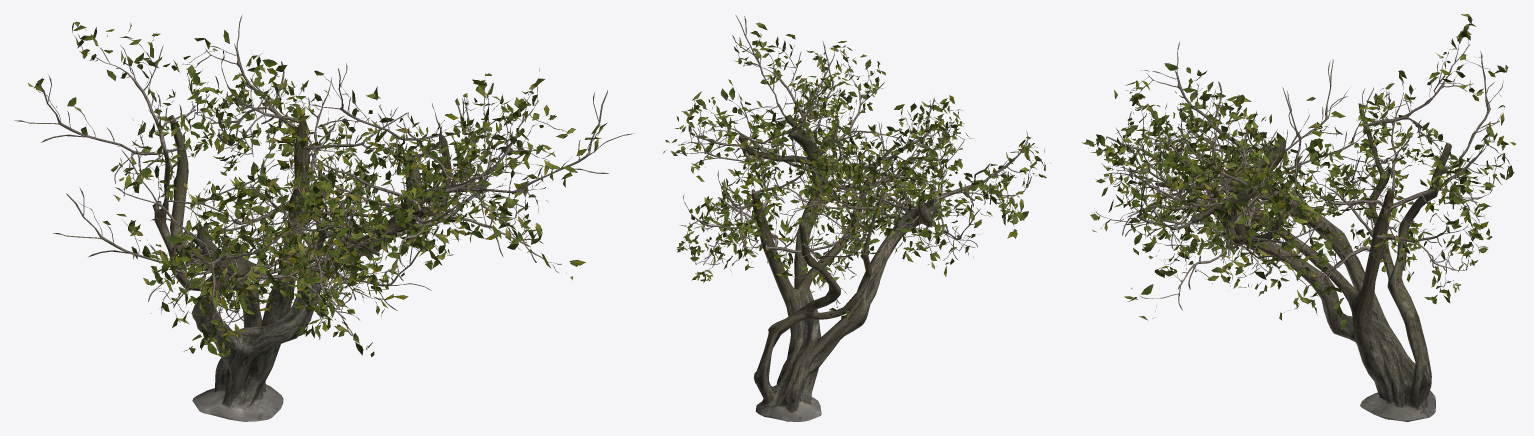
Rendered from tree_b.glb.
3 renders of one model, left to right at view 1: azimuth 30°, elevation 25°; view 2: azimuth 150°, elevation 25°; view 3: azimuth 270°, elevation 25°, orthographic. The views are drawn at different scales.
Visible parts, largest first — view 1: island_tree_02_LOD0; view 2: island_tree_02_LOD0; view 3: island_tree_02_LOD0.
Part boxes in pixels (x1=…): island_tree_02_LOD0: x1=14, y1=14, x2=634, y2=421; island_tree_02_LOD0: x1=663, y1=15, x2=1051, y2=421; island_tree_02_LOD0: x1=1082, y1=14, x2=1517, y2=421.
Bounding box in the file's own units: 4.21 × 3.39 × 4.01.
Materials: 3 (3 with a texture image).
